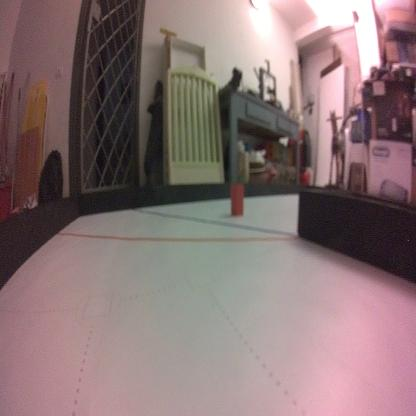red: (230, 181, 244, 219)
